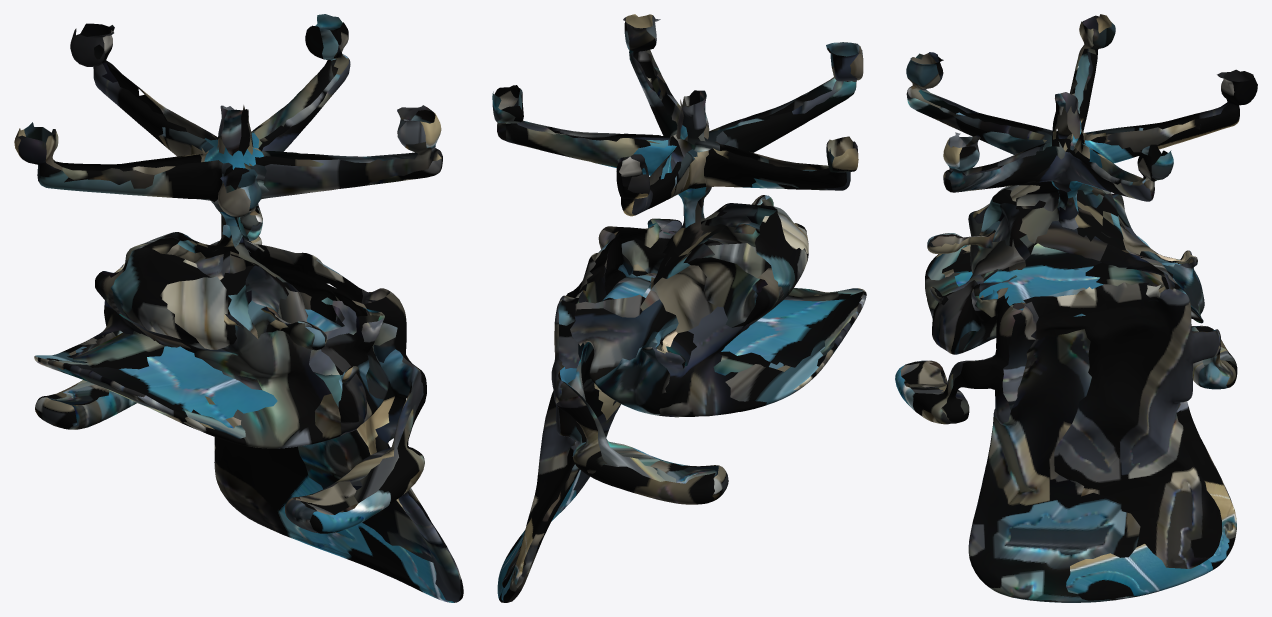
3 views of the same model, side by side, from view 1: azimuth 30°, elevation 25°; view 2: azimuth 150°, elevation 25°; view 3: azimuth 270°, elevation 25° (orthographic). The views are drawn at different scales.
Size of the model in its own units: 0.7085 by 0.9467 by 0.7018.
